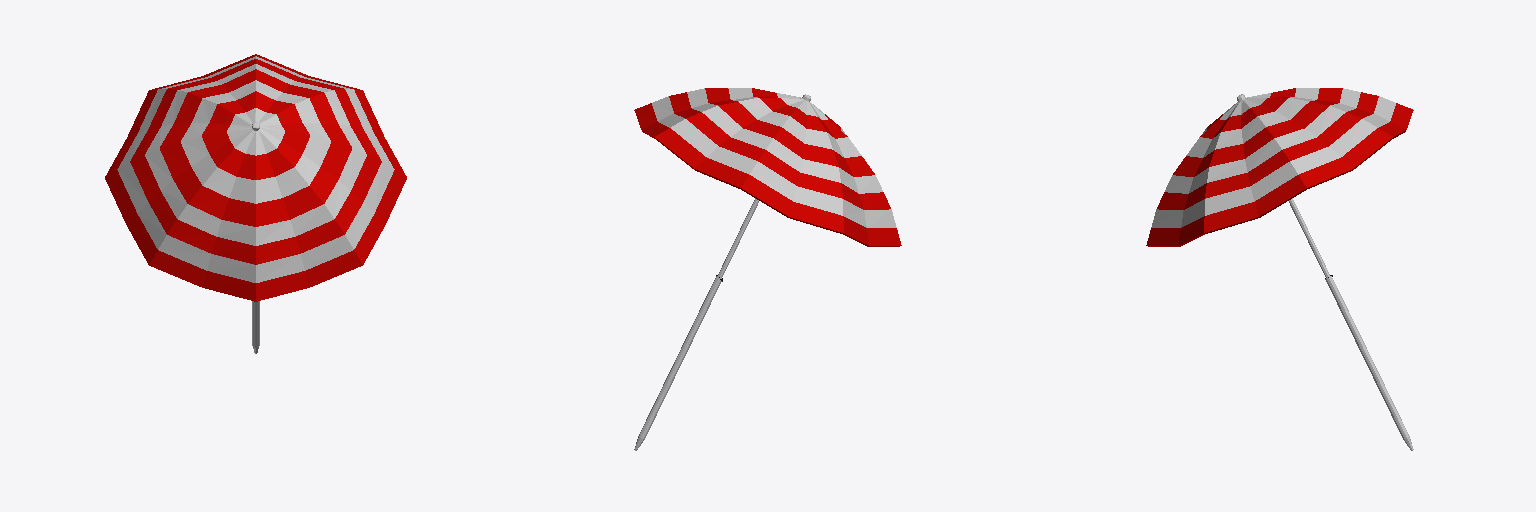
The model's file is 2024_summer_pack.obj.
3 renders of one model, left to right at view 1: azimuth 30°, elevation 25°; view 2: azimuth 150°, elevation 25°; view 3: azimuth 270°, elevation 25°, orthographic.
Visible parts, largest first — view 1: 1, 0; view 2: 1, 0; view 3: 1, 0.
Part boxes in pixels (left/top/right/bottom): 1: left=105, top=54, right=406, bottom=301; 0: left=117, top=56, right=394, bottom=353; 1: left=634, top=88, right=901, bottom=246; 0: left=634, top=88, right=896, bottom=450; 1: left=1146, top=88, right=1413, bottom=246; 0: left=1151, top=88, right=1413, bottom=450.
Size of the model in its own units: 1.89 by 2.44 by 1.82.